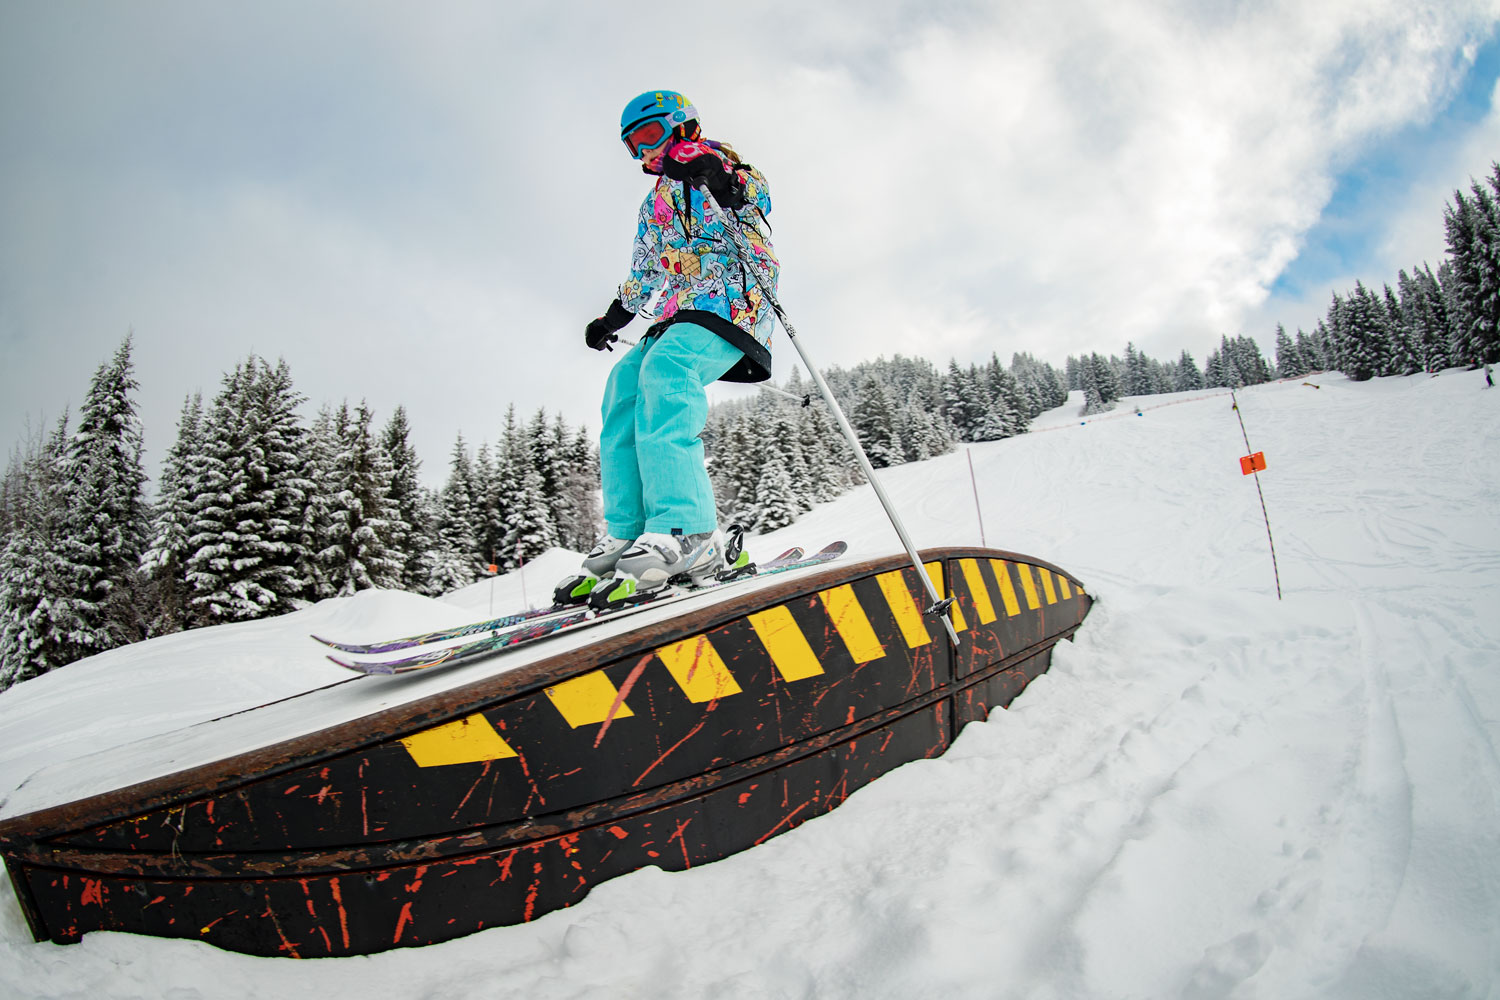skier: (307, 86, 978, 686)
